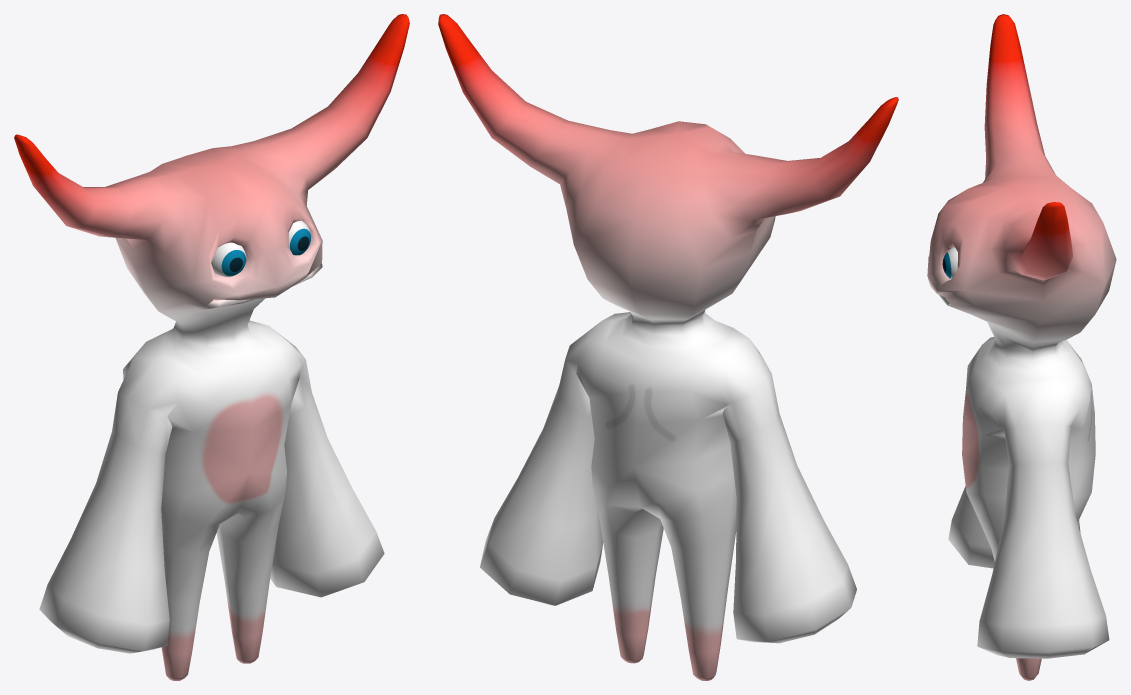
The model's file is frame17.obj.
3 renders of one model, left to right at view 1: azimuth 30°, elevation 25°; view 2: azimuth 150°, elevation 25°; view 3: azimuth 270°, elevation 25°, orthographic. The views are drawn at different scales.
Parts seen in each view (by area): view 1: Body, Right_Eye, Left_Eye; view 2: Body; view 3: Body, Left_Eye.
Part boxes in pixels (<box>): Body: <box>14,14,409,680</box>; Right_Eye: <box>211,242,246,276</box>; Left_Eye: <box>288,220,310,255</box>; Body: <box>438,14,898,680</box>; Body: <box>927,14,1116,680</box>; Left_Eye: <box>942,247,957,279</box>.
Size of the model in its own units: 13.54 by 18.48 by 5.72.
